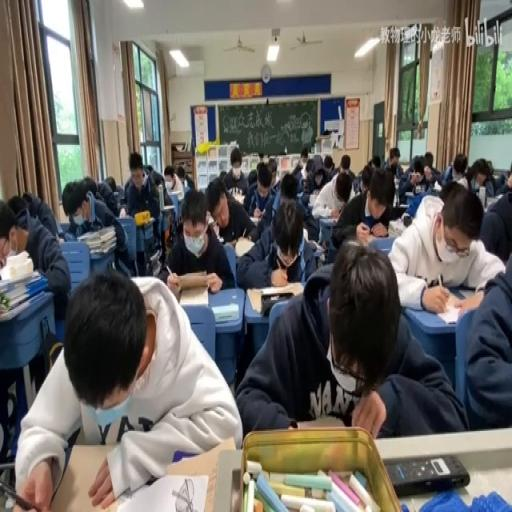calculator: (115, 469, 209, 512), (245, 282, 302, 312), (178, 283, 207, 306), (436, 302, 466, 324), (212, 301, 238, 323), (367, 235, 394, 253), (234, 235, 256, 256), (388, 218, 406, 236), (484, 192, 502, 210), (455, 284, 477, 298), (134, 214, 156, 228), (148, 248, 160, 273), (306, 239, 323, 252), (478, 184, 486, 208), (230, 193, 244, 205), (320, 216, 338, 225), (160, 203, 174, 212), (249, 214, 261, 224), (224, 238, 236, 248), (432, 179, 442, 189), (398, 203, 408, 212), (302, 225, 307, 240), (405, 190, 414, 198), (296, 188, 303, 196), (218, 236, 223, 243)
paper: (16, 266, 238, 512), (235, 240, 456, 437), (388, 180, 506, 312), (0, 193, 70, 322), (234, 192, 318, 287), (163, 189, 235, 290), (61, 175, 130, 279), (334, 165, 403, 247), (123, 150, 159, 224), (398, 155, 432, 202), (223, 145, 249, 193), (477, 161, 508, 199), (300, 155, 326, 195), (444, 151, 470, 186), (7, 193, 29, 222), (278, 170, 298, 200), (384, 146, 402, 178), (336, 154, 355, 184), (176, 162, 194, 192), (82, 175, 101, 202), (358, 165, 372, 193), (266, 158, 278, 189), (104, 174, 117, 190), (246, 168, 257, 185), (322, 155, 332, 172), (424, 151, 433, 168), (292, 164, 302, 179), (371, 155, 381, 169), (164, 175, 174, 188), (217, 168, 226, 182), (258, 151, 267, 165), (144, 163, 154, 175), (414, 168, 424, 180), (301, 149, 307, 162), (486, 158, 492, 171)
person: (386, 454, 470, 496), (402, 215, 411, 226)
